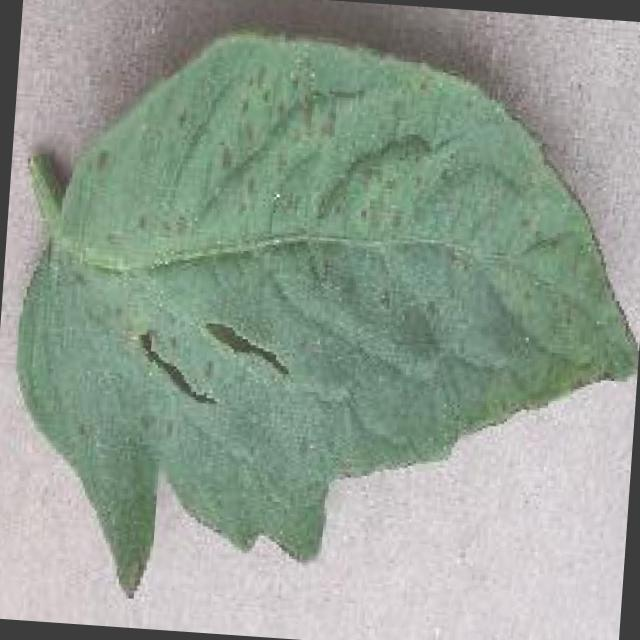bacterial spot: (17, 35, 630, 599)
